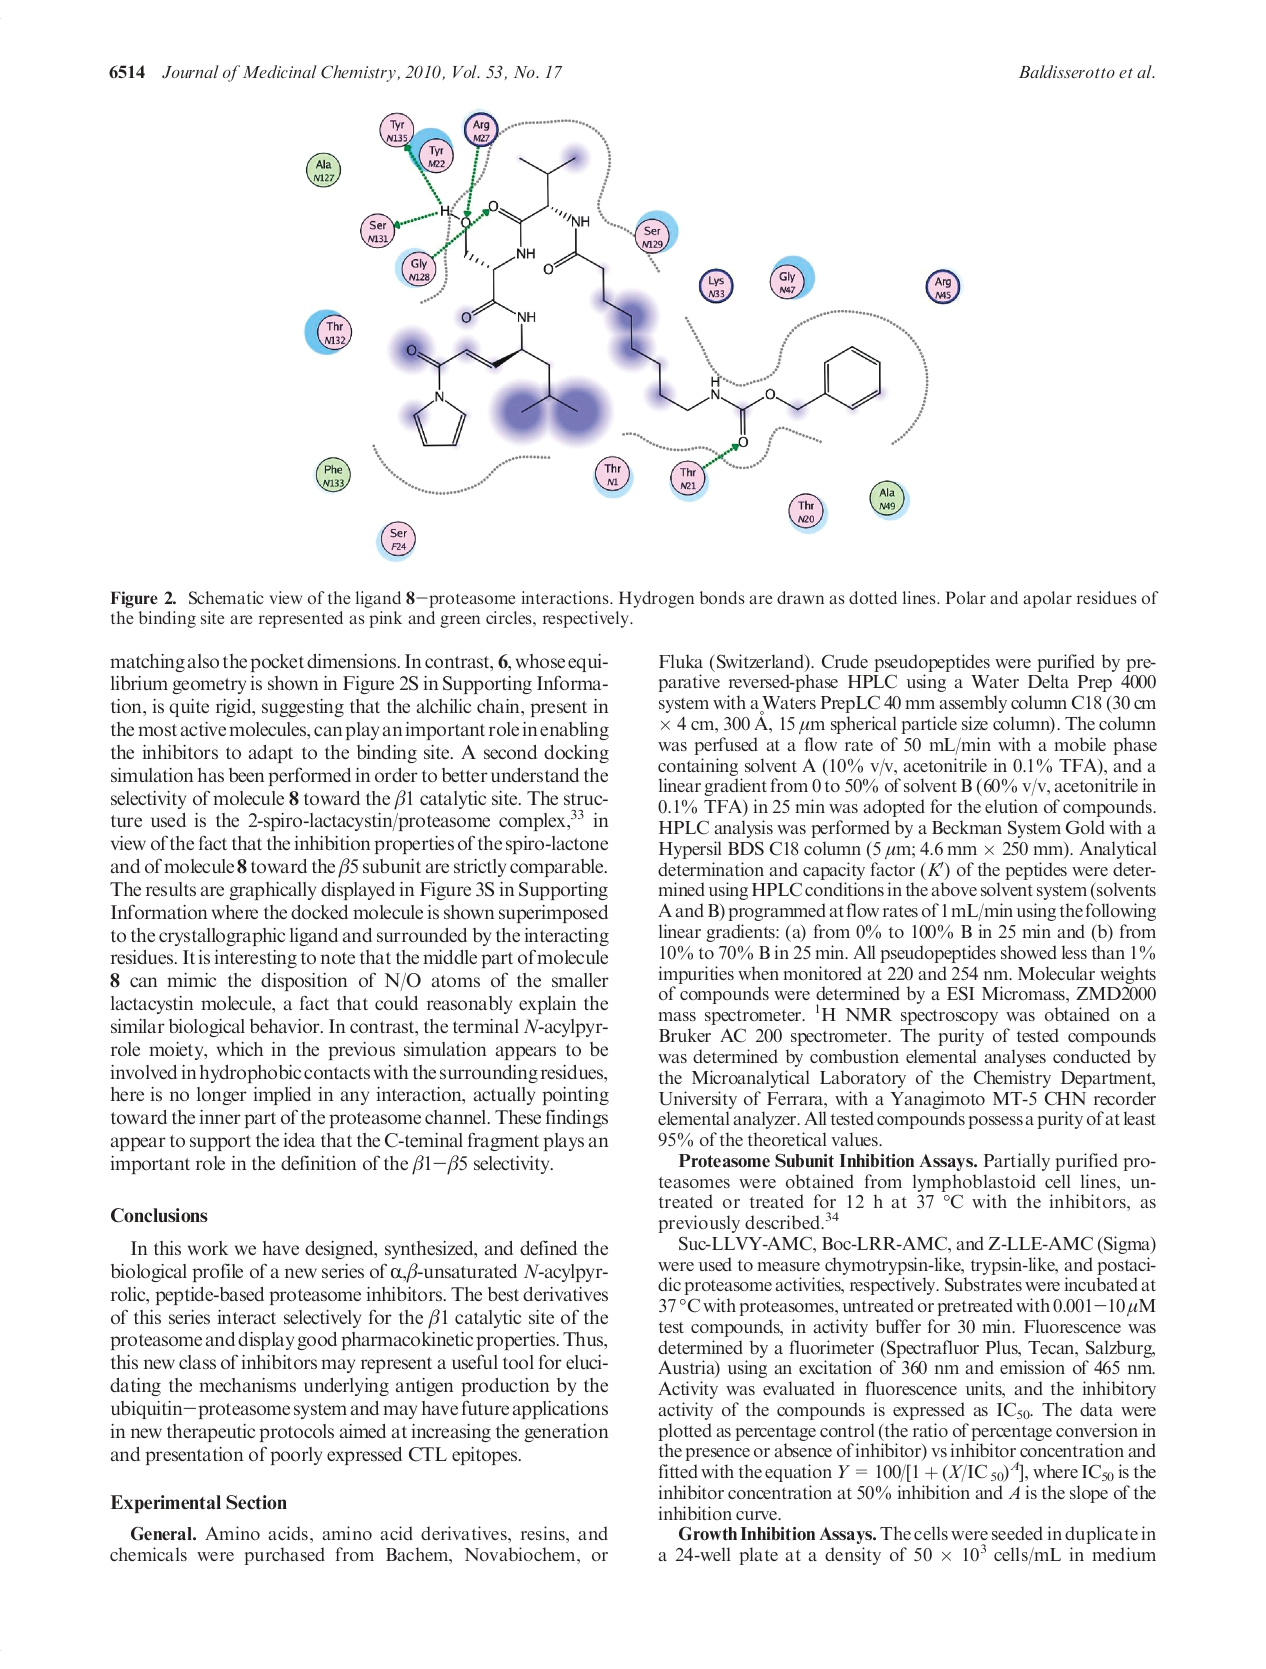exist_molecular: (402, 153, 883, 457)
